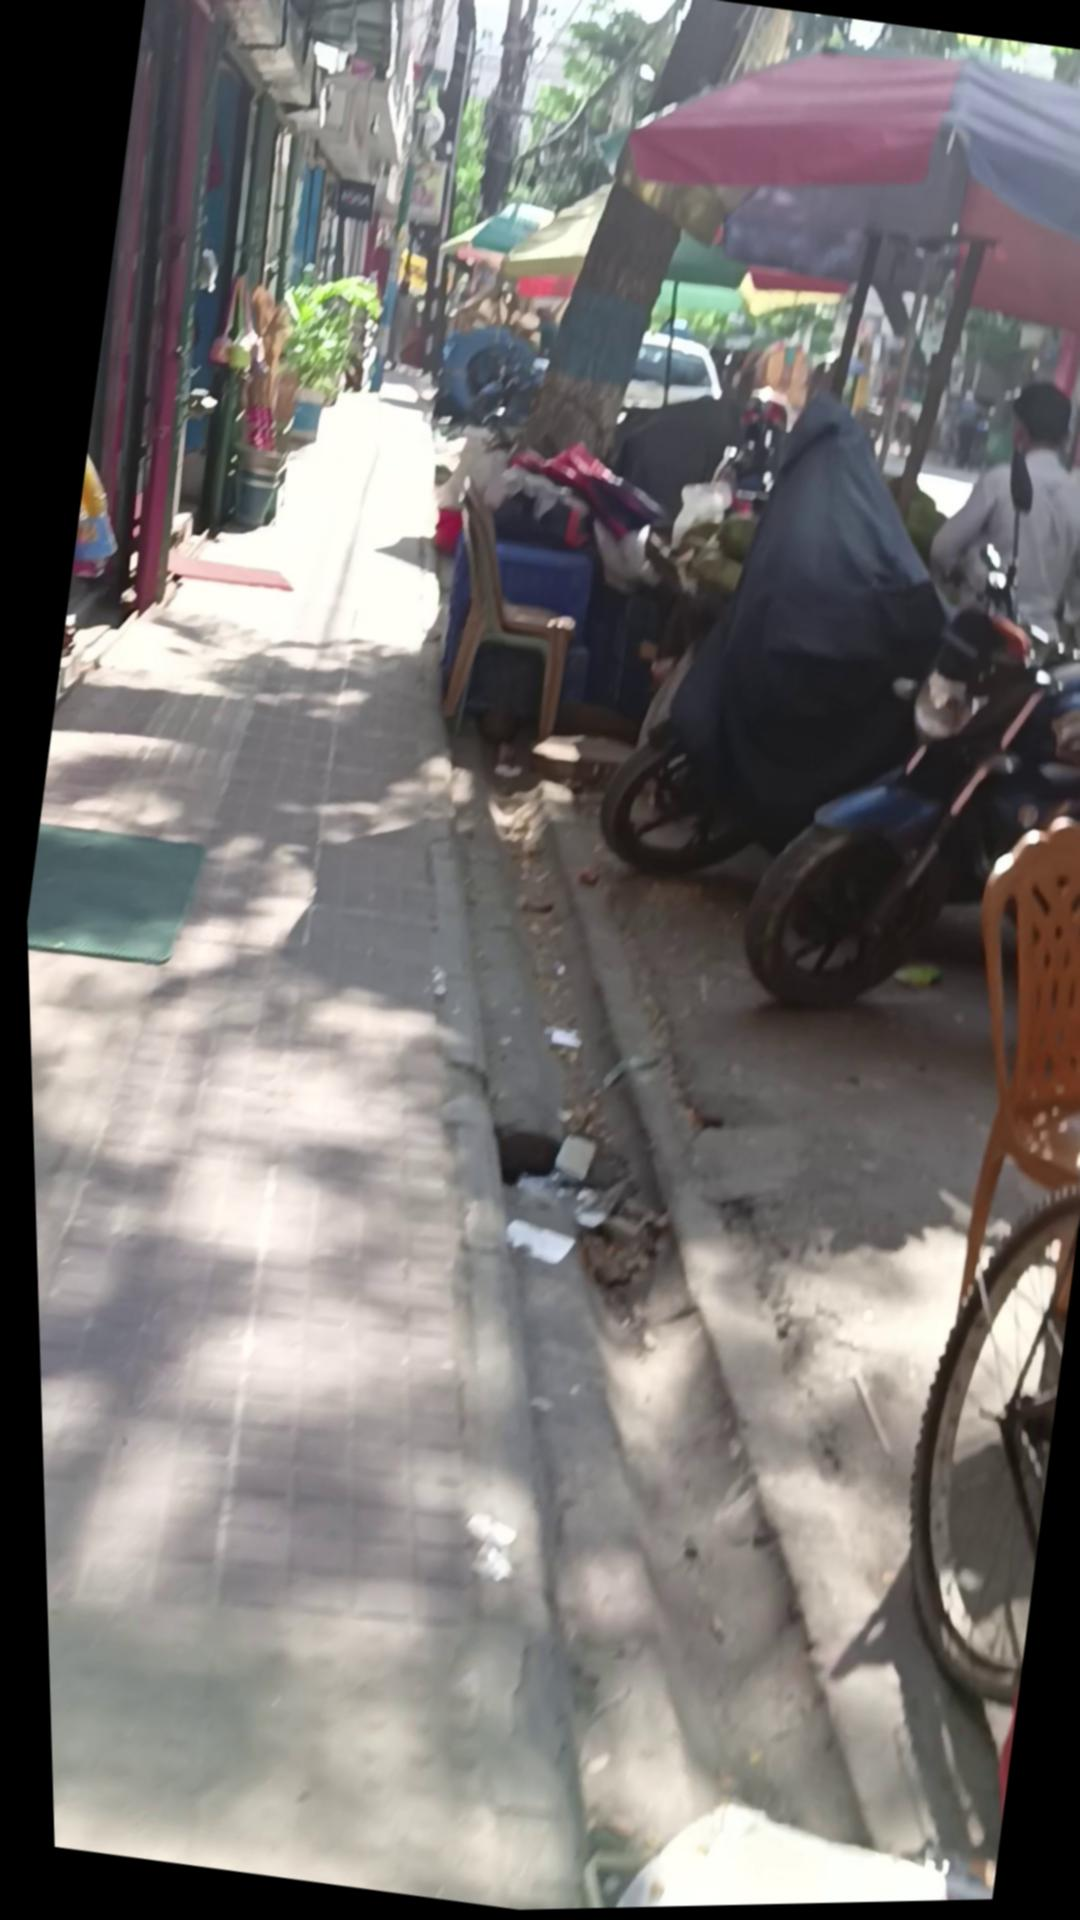Animal: (417, 484, 597, 757)
Broken-road: (278, 761, 1023, 1916)
Construction-barrier: (713, 506, 1080, 1060)
Crosswalk: (158, 549, 291, 596)
Curb: (906, 369, 1080, 670)
Fallen-tree: (256, 244, 384, 456)
Garbage: (8, 315, 731, 1913)
